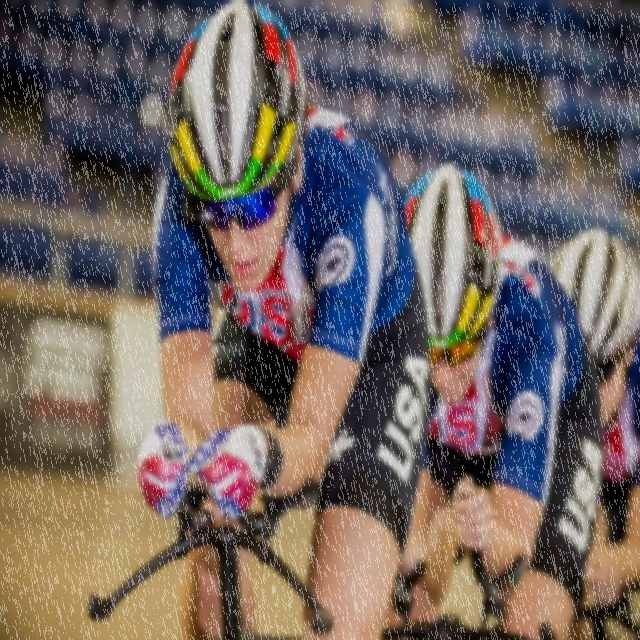pessoa: (134, 0, 430, 640), (362, 161, 604, 640), (542, 229, 640, 639)
